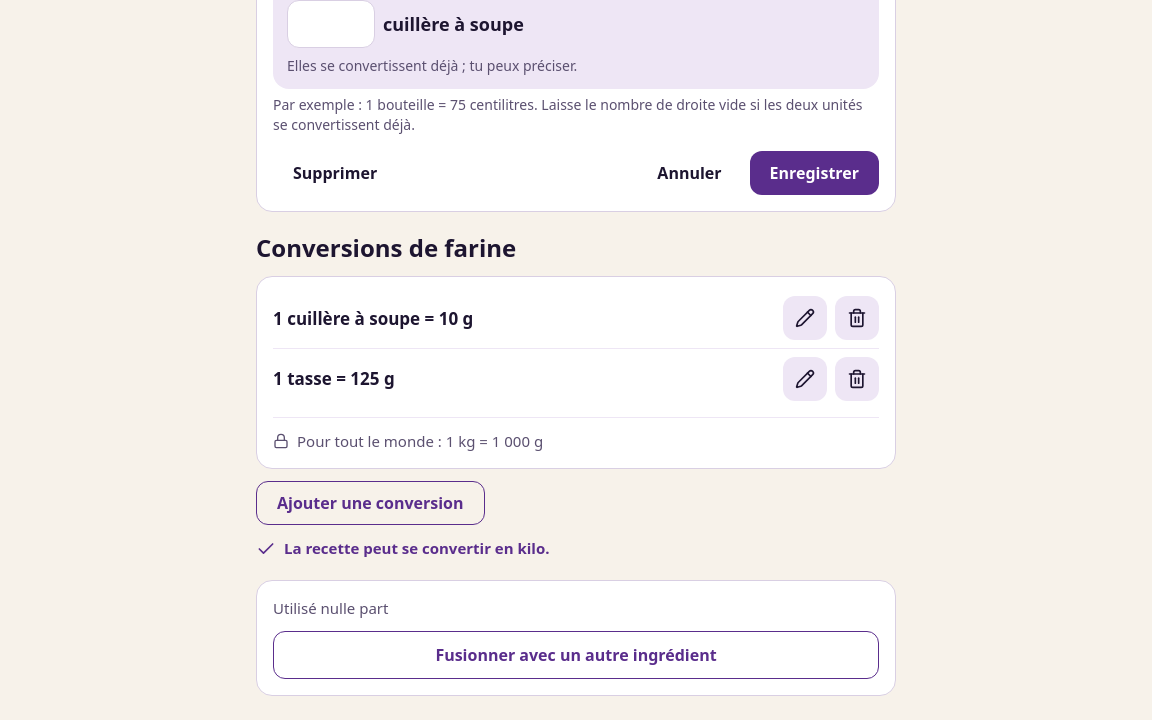
Test: Conversions de l’ingrédient › modifie une conversion : l’équation reprend ses valeurs, un seul PUT
(page scrolled)
Click the button named "Modifier : 1 tasse = 125 g" at (805, 379), box [783,357,827,401]
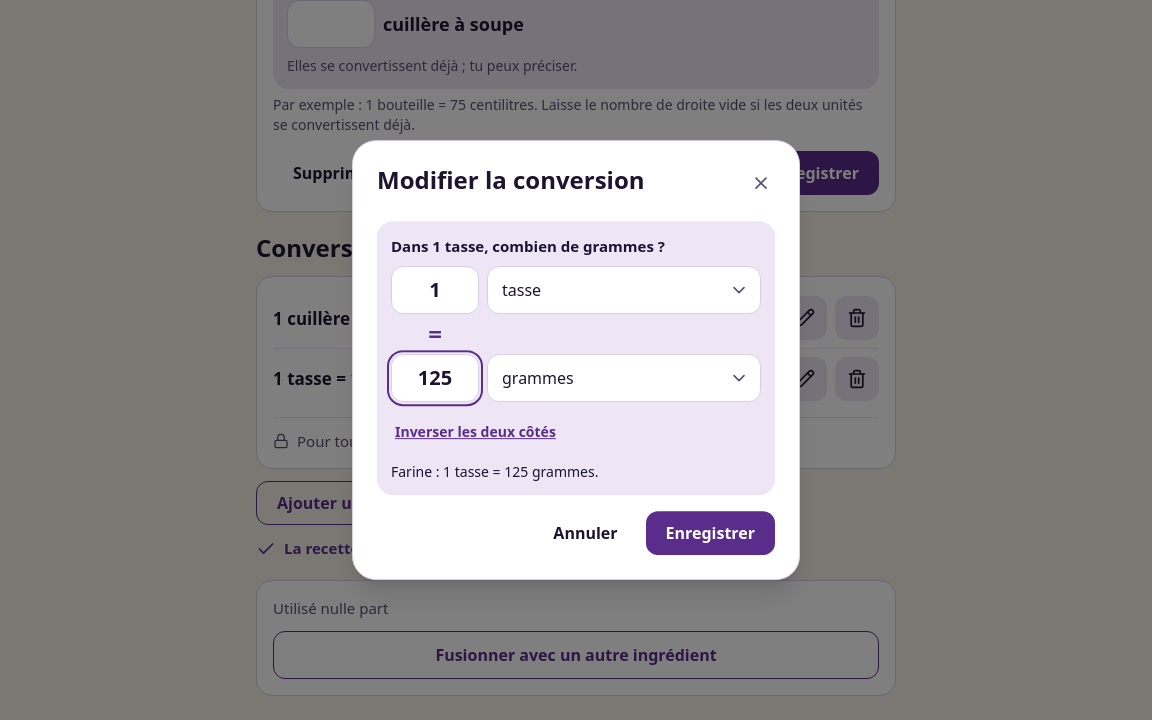
Result: the dialog is shown at [352,140,800,580]
Result: the dialog shows "Modifier la conversion" at [377,163,645,196]
Result: the dropdown named "Unité de départ" shows "tasse" at [487,266,761,314]
Replace the text in the field named "Quantité d" with "130" at (435, 378), box [391,354,479,402]
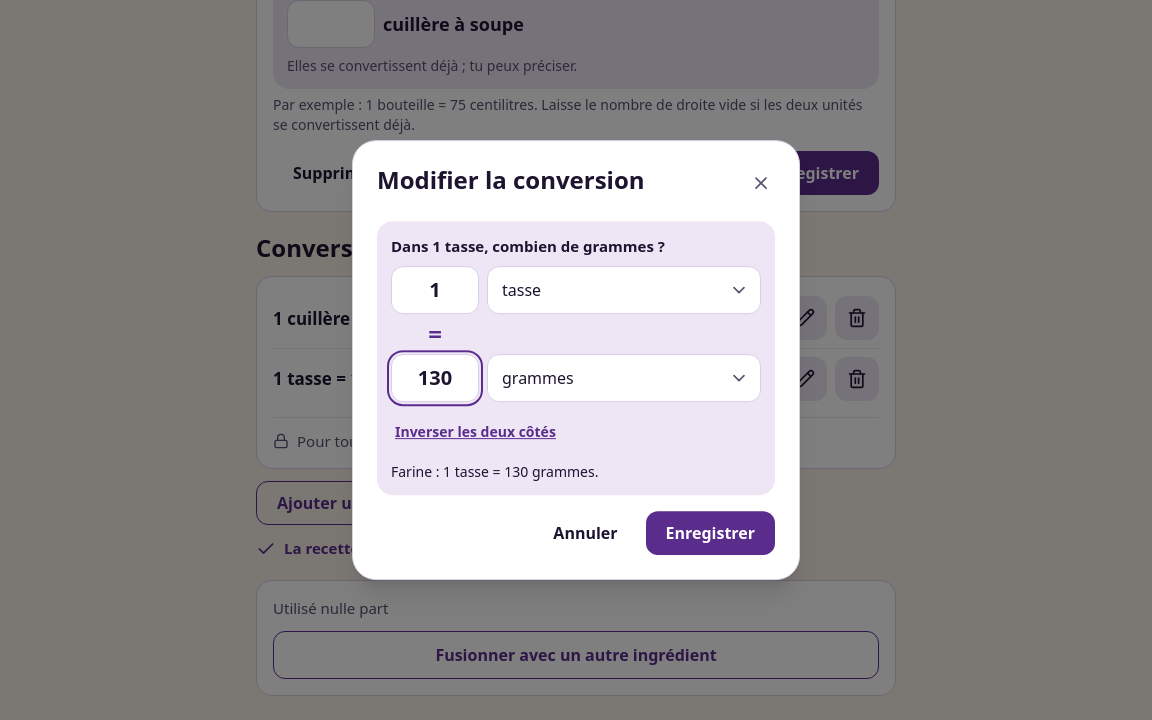
Submit the form, box [377,221,775,555]
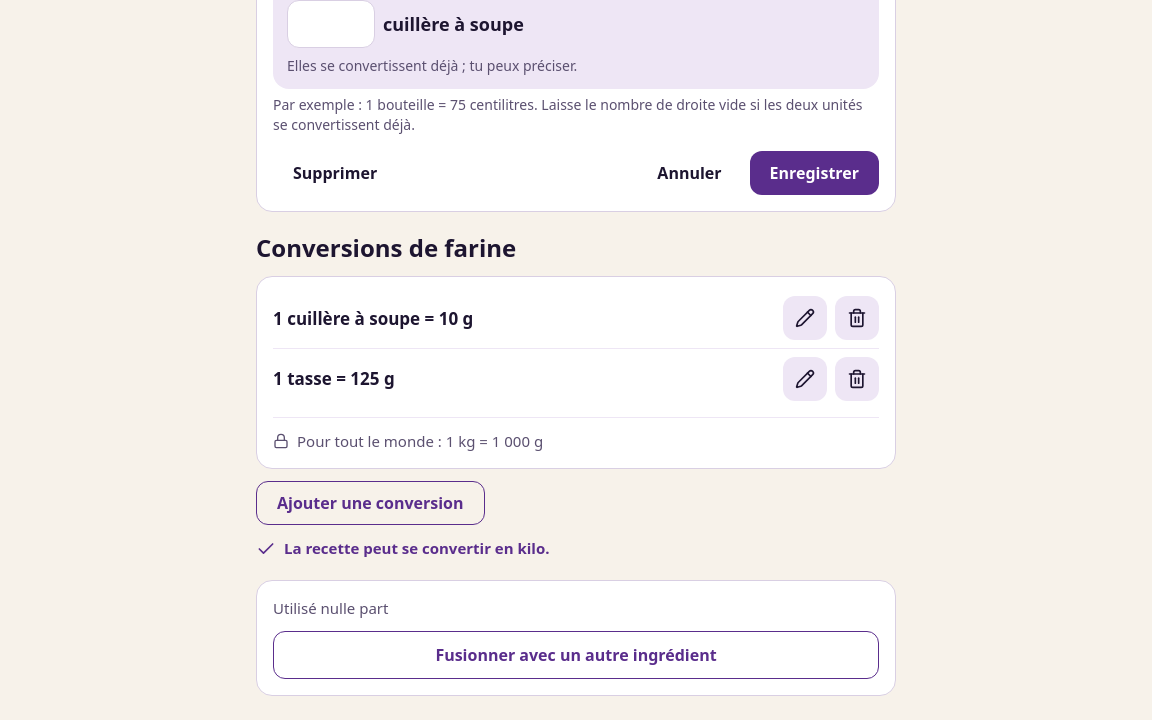
Result: the dialog is gone
